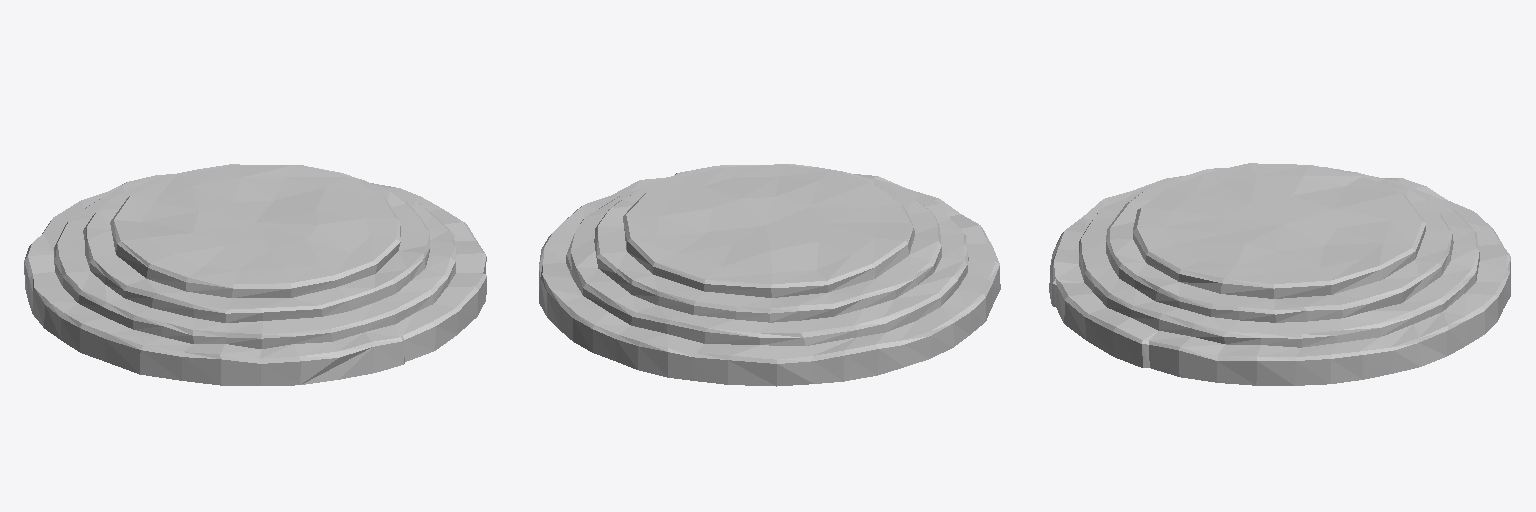
File: platform.obj
3 renders of one model, left to right at view 1: azimuth 30°, elevation 25°; view 2: azimuth 150°, elevation 25°; view 3: azimuth 270°, elevation 25°, orthographic.
Parts seen in each view (by area): view 1: platform; view 2: platform; view 3: platform.
Part boxes in pixels (bbox=[...]): platform: bbox=[24, 164, 486, 385]; platform: bbox=[539, 164, 1000, 386]; platform: bbox=[1049, 163, 1510, 385].
Bounding box in the file's own units: 0.7929 × 0.1276 × 0.7969.